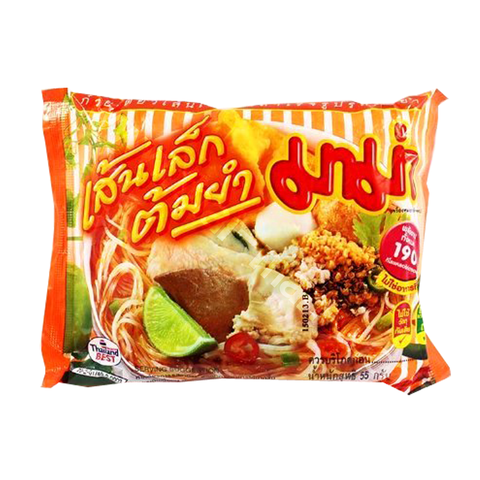Snack: (33, 80, 458, 401)
